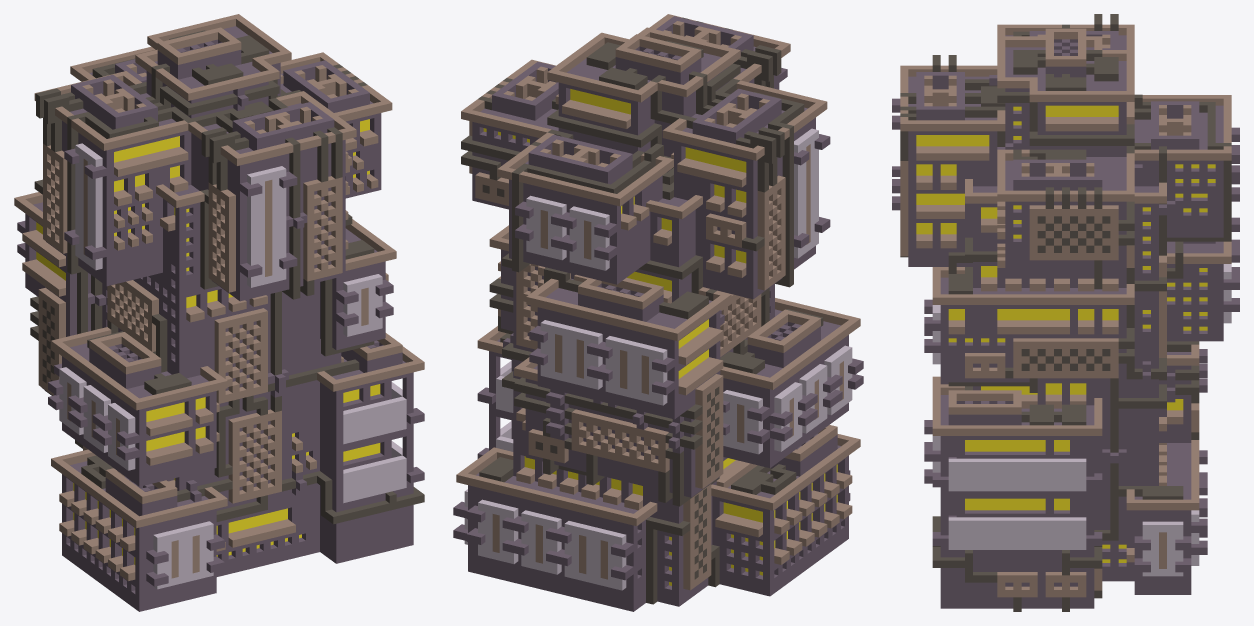
Rendered from CarmaTower_1.obj.
3 views of the same model, side by side, from view 1: azimuth 30°, elevation 25°; view 2: azimuth 150°, elevation 25°; view 3: azimuth 270°, elevation 25° (orthographic). The views are drawn at different scales.
Bounding box in the file's own units: 4.2 × 6.7 × 4.3.
1 material, 1 textured.
